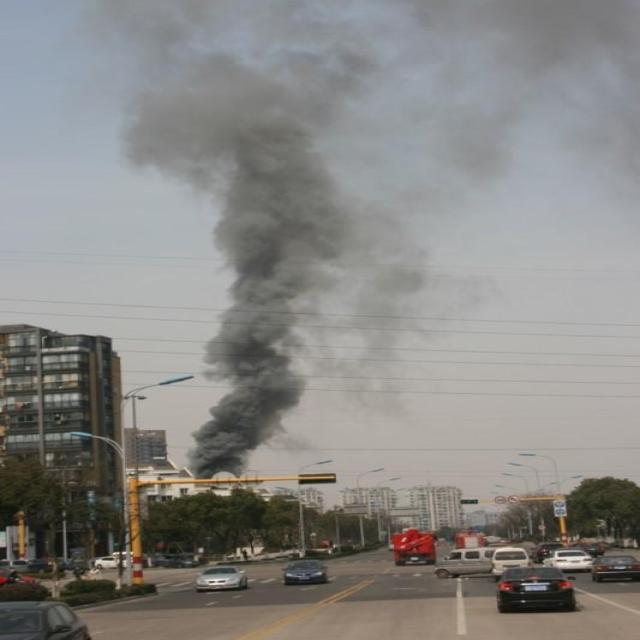Smoke: (101, 1, 640, 480)
